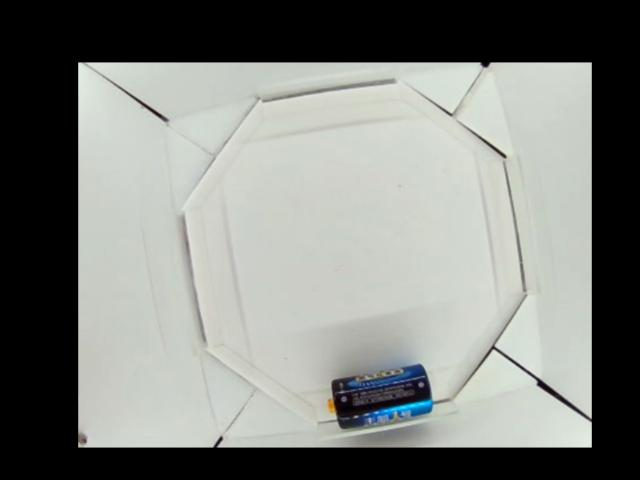Battery: (328, 365, 432, 430)
